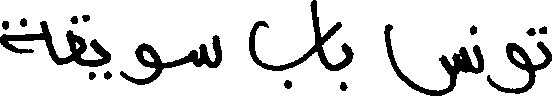ا: (313, 0, 329, 70)
ب: (245, 0, 314, 90), (338, 19, 354, 91)
ة: (0, 16, 52, 61)
ت: (526, 24, 550, 64)
س: (382, 21, 471, 94), (188, 33, 221, 69)
ق: (65, 13, 89, 66)
ن: (472, 23, 485, 75)
و: (504, 25, 534, 94), (135, 40, 163, 85)
ي: (88, 14, 109, 81)
